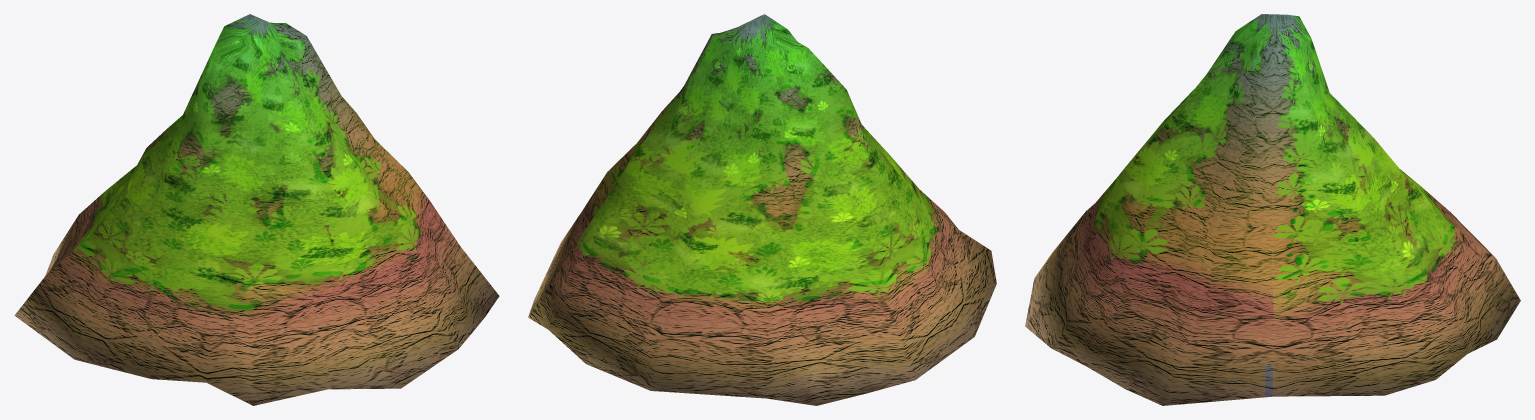
File: CliffAboveSea2.FBX
The picture shows the model from 3 angles, left to right: view 1: azimuth 30°, elevation 25°; view 2: azimuth 150°, elevation 25°; view 3: azimuth 270°, elevation 25°; orthographic projection. The views are drawn at different scales.
Visible parts, largest first — view 1: Box001; view 2: Box001; view 3: Box001.
Part boxes in pixels (x1,y1,x2,y2): Box001: (14,14,499,405); Box001: (528,14,996,405); Box001: (1025,14,1520,405).
Size of the model in its own units: 672 by 487 by 701.
